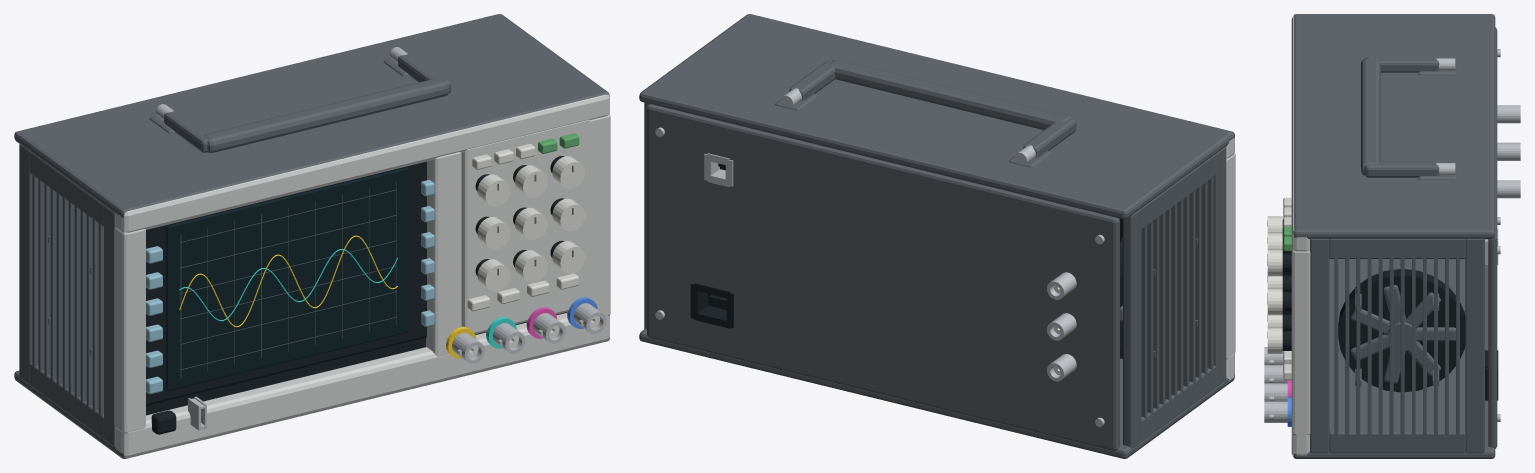
The model's file is A-NEW-20261026-OSCILLOSCOPE-001_LOD1_R5.fbx.
3 views of the same model, side by side, from view 1: azimuth 30°, elevation 25°; view 2: azimuth 150°, elevation 25°; view 3: azimuth 270°, elevation 25° (orthographic). The views are drawn at different scales.
Parts seen in each view (by area): view 1: case roof, screen glass surface, front bottom rail, control face, front top rail, screen well floor, front vertical bezel, front vertical bezel.002, front vertical bezel.001, folded handle grip, side grille end frame.001, lower bezel cavity closure (+33 smaller); view 2: rear panel, case roof, folded handle grip, side grille end frame.001, base floor, side grille end frame, front vertical bezel, side grille edge frame, side grille edge frame.001, side ventilation rib.003, side ventilation rib.008, side ventilation rib.006 (+12 smaller); view 3: case roof, base floor, fan shroud backing.001, side grille end frame.002, side grille end frame.003, front vertical bezel.001, side grille edge frame.002, side grille edge frame.003, rear panel, folded handle grip, folded handle arm.001, folded handle arm (+33 smaller).
Part boxes in pixels (bbox=[...]): case roof: bbox=[14, 14, 609, 217]; screen glass surface: bbox=[166, 167, 408, 390]; front bottom rail: bbox=[115, 313, 609, 458]; control face: bbox=[461, 119, 590, 334]; front top rail: bbox=[115, 94, 609, 232]; screen well floor: bbox=[146, 161, 426, 405]; front vertical bezel: bbox=[114, 226, 145, 433]; front vertical bezel.002: bbox=[426, 152, 461, 356]; front vertical bezel.001: bbox=[567, 114, 610, 315]; folded handle grip: bbox=[204, 78, 448, 152]; side grille end frame.001: bbox=[19, 144, 32, 383]; lower bezel cavity closure: bbox=[146, 312, 567, 415]; rear panel: bbox=[647, 104, 1119, 450]; case roof: bbox=[639, 14, 1234, 219]; folded handle grip: bbox=[829, 59, 1072, 129]; side grille end frame.001: bbox=[1123, 208, 1141, 448]; base floor: bbox=[639, 329, 1234, 458]; side grille end frame: bbox=[1213, 146, 1226, 386]; front vertical bezel: bbox=[1226, 152, 1235, 359]; side grille edge frame: bbox=[1141, 365, 1215, 441]; side grille edge frame.001: bbox=[1141, 154, 1215, 229]; side ventilation rib.003: bbox=[1189, 188, 1195, 385]; side ventilation rib.008: bbox=[1159, 210, 1165, 406]; side ventilation rib.006: bbox=[1171, 201, 1177, 398]; case roof: bbox=[1293, 14, 1495, 238]; base floor: bbox=[1293, 259, 1495, 458]; fan shroud backing.001: bbox=[1338, 269, 1465, 392]; side grille end frame.002: bbox=[1310, 238, 1329, 453]; side grille end frame.003: bbox=[1465, 238, 1484, 453]; front vertical bezel.001: bbox=[1291, 249, 1310, 434]; side grille edge frame.002: bbox=[1329, 429, 1465, 453]; side grille edge frame.003: bbox=[1329, 238, 1465, 258]; rear panel: bbox=[1488, 27, 1497, 448]; folded handle grip: bbox=[1361, 58, 1380, 175]; folded handle arm.001: bbox=[1365, 161, 1439, 177]; folded handle arm: bbox=[1366, 56, 1439, 72].
Bounding box in the file's own units: 31.31 × 16.85 × 15.5.
